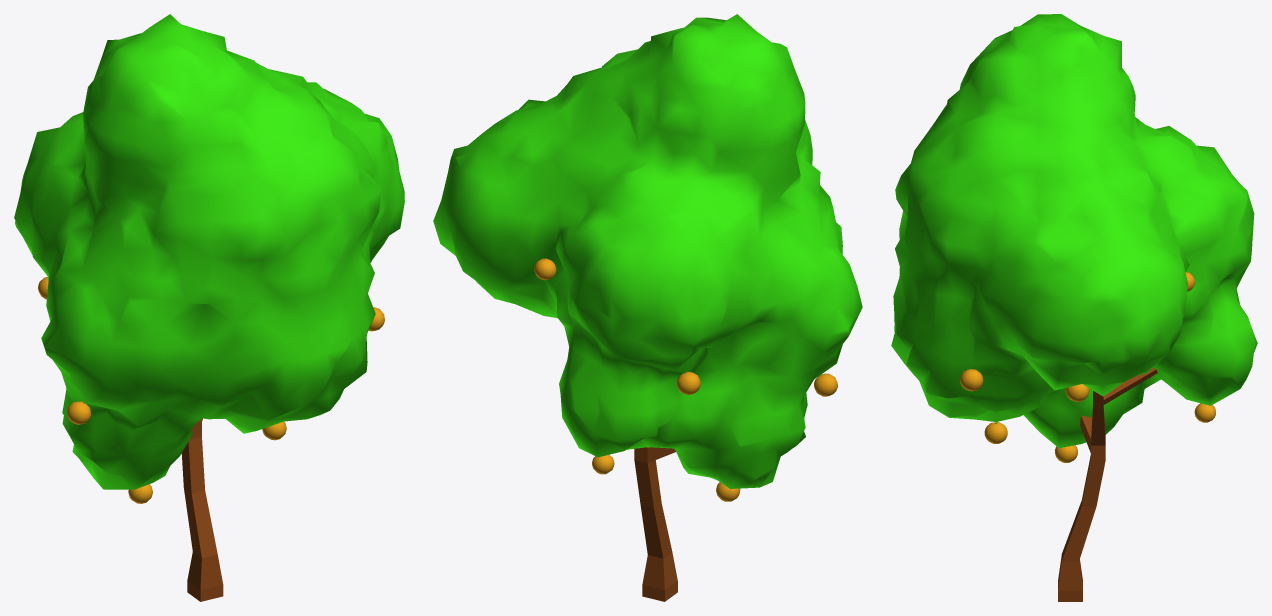
File: SM_OrangeTree_001_LOD2.fbx
3 renders of one model, left to right at view 1: azimuth 30°, elevation 25°; view 2: azimuth 150°, elevation 25°; view 3: azimuth 270°, elevation 25°, orthographic. The views are drawn at different scales.
Parts seen in each view (by area): view 1: OrangeTree_01; view 2: OrangeTree_01; view 3: OrangeTree_01.
Part boxes in pixels (x1,y1,x2,y2): OrangeTree_01: (14, 14, 404, 601); OrangeTree_01: (433, 14, 862, 601); OrangeTree_01: (891, 14, 1257, 601).
Size of the model in its own units: 186 by 276 by 167.
